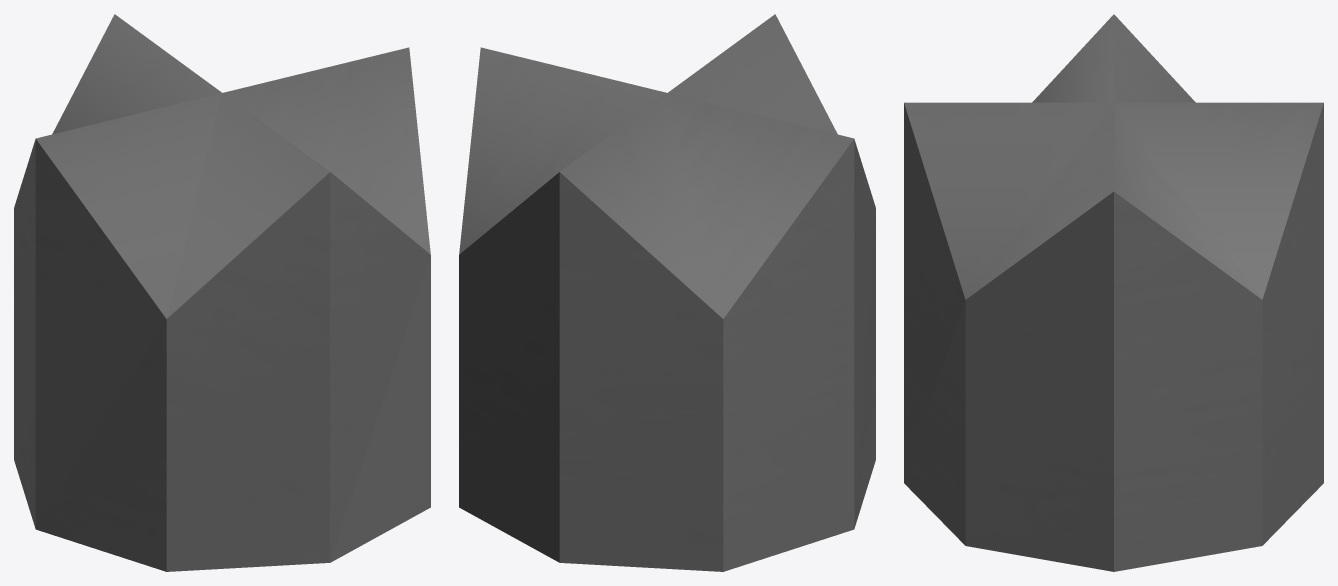
Rendered from cable_side.obj.
3 renders of one model, left to right at view 1: azimuth 30°, elevation 25°; view 2: azimuth 150°, elevation 25°; view 3: azimuth 270°, elevation 25°, orthographic. The views are drawn at different scales.
Visible parts, largest first — view 1: down_3; view 2: down_3; view 3: down_3.
Boxes of the visible parts, <box> form: down_3: <box>14,14,430,571</box>; down_3: <box>459,14,875,571</box>; down_3: <box>904,14,1323,571</box>.
Size of the model in its own units: 0.5 by 0.5 by 0.5.
